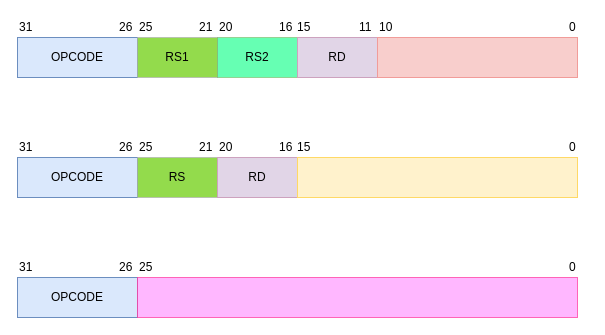
The diagram is 605 pixels wide and 335 high, and some of its shapes have lost their labels. Each missing label, with the box of its shape:
FUNC: (376, 36, 578, 78)
IMMEDIATE: (296, 156, 578, 198)
OFFSET: (136, 276, 578, 318)
